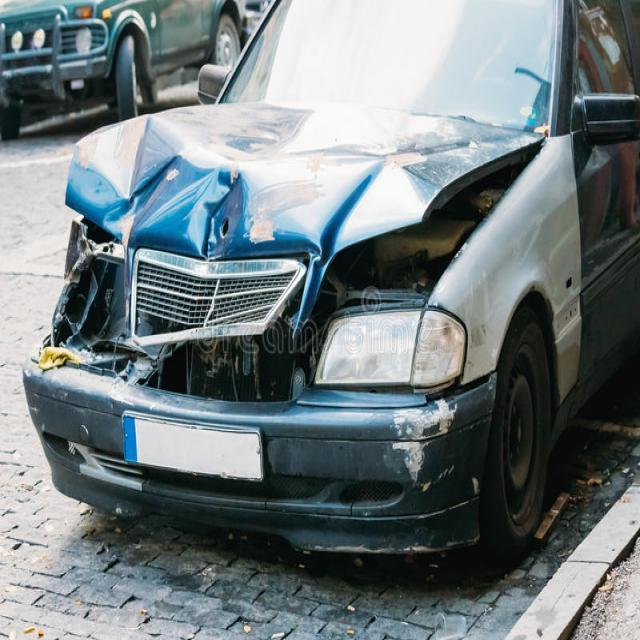bonnet-dent: (64, 58, 518, 288)
front-bumper-dent: (263, 366, 528, 578)
